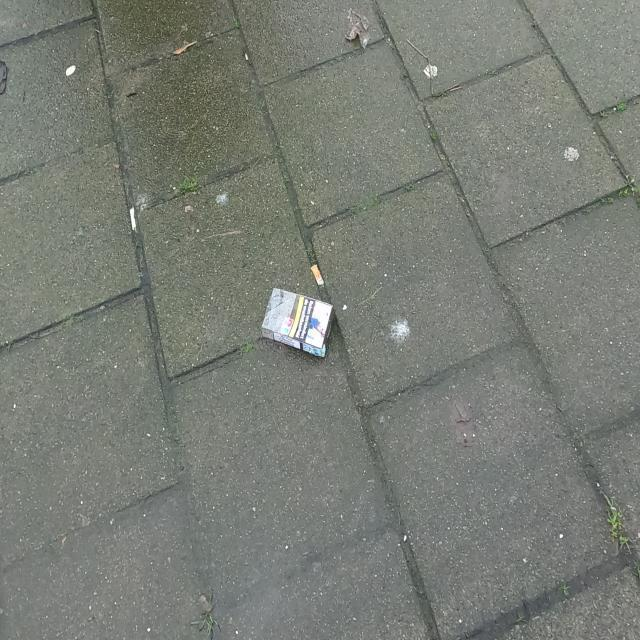Paper: (258, 284, 336, 362)
